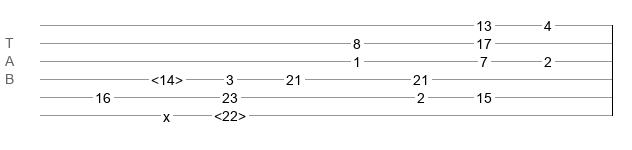1: (353, 54, 361, 64)
13: (476, 18, 492, 28)
15: (476, 90, 492, 100)
16: (95, 90, 111, 100)
17: (476, 36, 492, 46)
2: (417, 90, 425, 100), (544, 54, 552, 64)
21: (286, 72, 302, 82), (413, 72, 429, 82)
23: (222, 90, 238, 100)
3: (226, 72, 234, 82)
4: (544, 18, 552, 28)
7: (480, 54, 488, 64)
8: (353, 36, 361, 46)
harmonic: (151, 72, 183, 82), (214, 108, 246, 118)
x: (163, 109, 170, 117)
